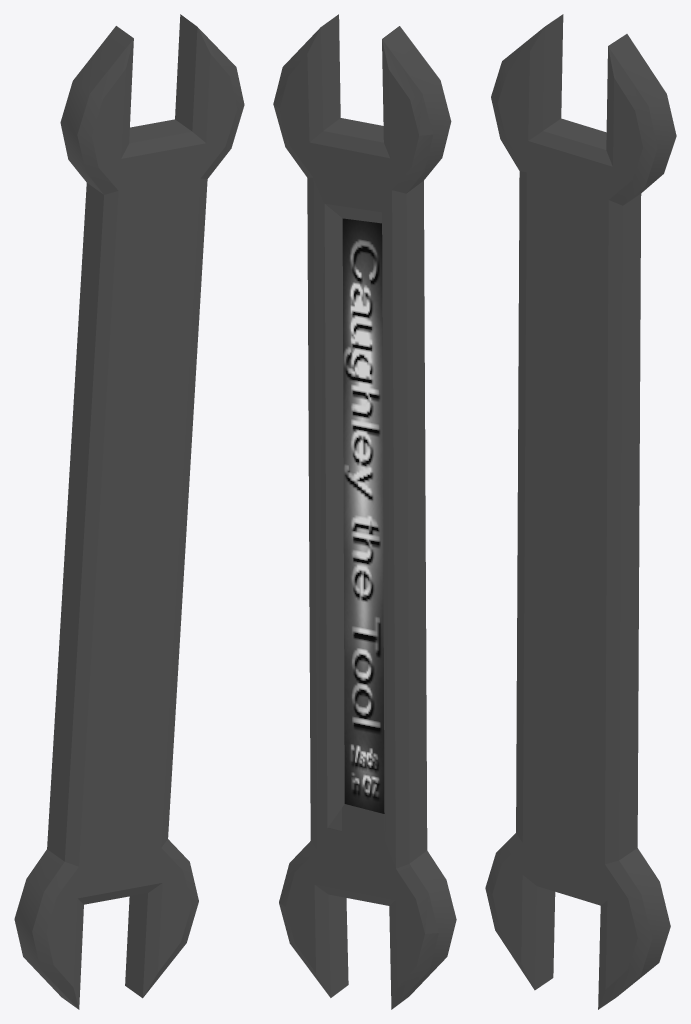
The model's file is p_spanner2.glb.
The picture shows the model from 3 angles, left to right: view 1: azimuth 30°, elevation 25°; view 2: azimuth 150°, elevation 25°; view 3: azimuth 330°, elevation 25°; orthographic projection. The views are drawn at different scales.
Visible parts, largest first — view 1: p_spanner2; view 2: p_spanner2; view 3: p_spanner2.
Boxes of the visible parts, left/top/right/bottom form: p_spanner2: left=14, top=14, right=244, bottom=1009; p_spanner2: left=273, top=14, right=456, bottom=1009; p_spanner2: left=485, top=14, right=676, bottom=1009.
Bounding box in the file's own units: 3.41 × 16.66 × 1.46.
Materials: 2 (2 with a texture image).
